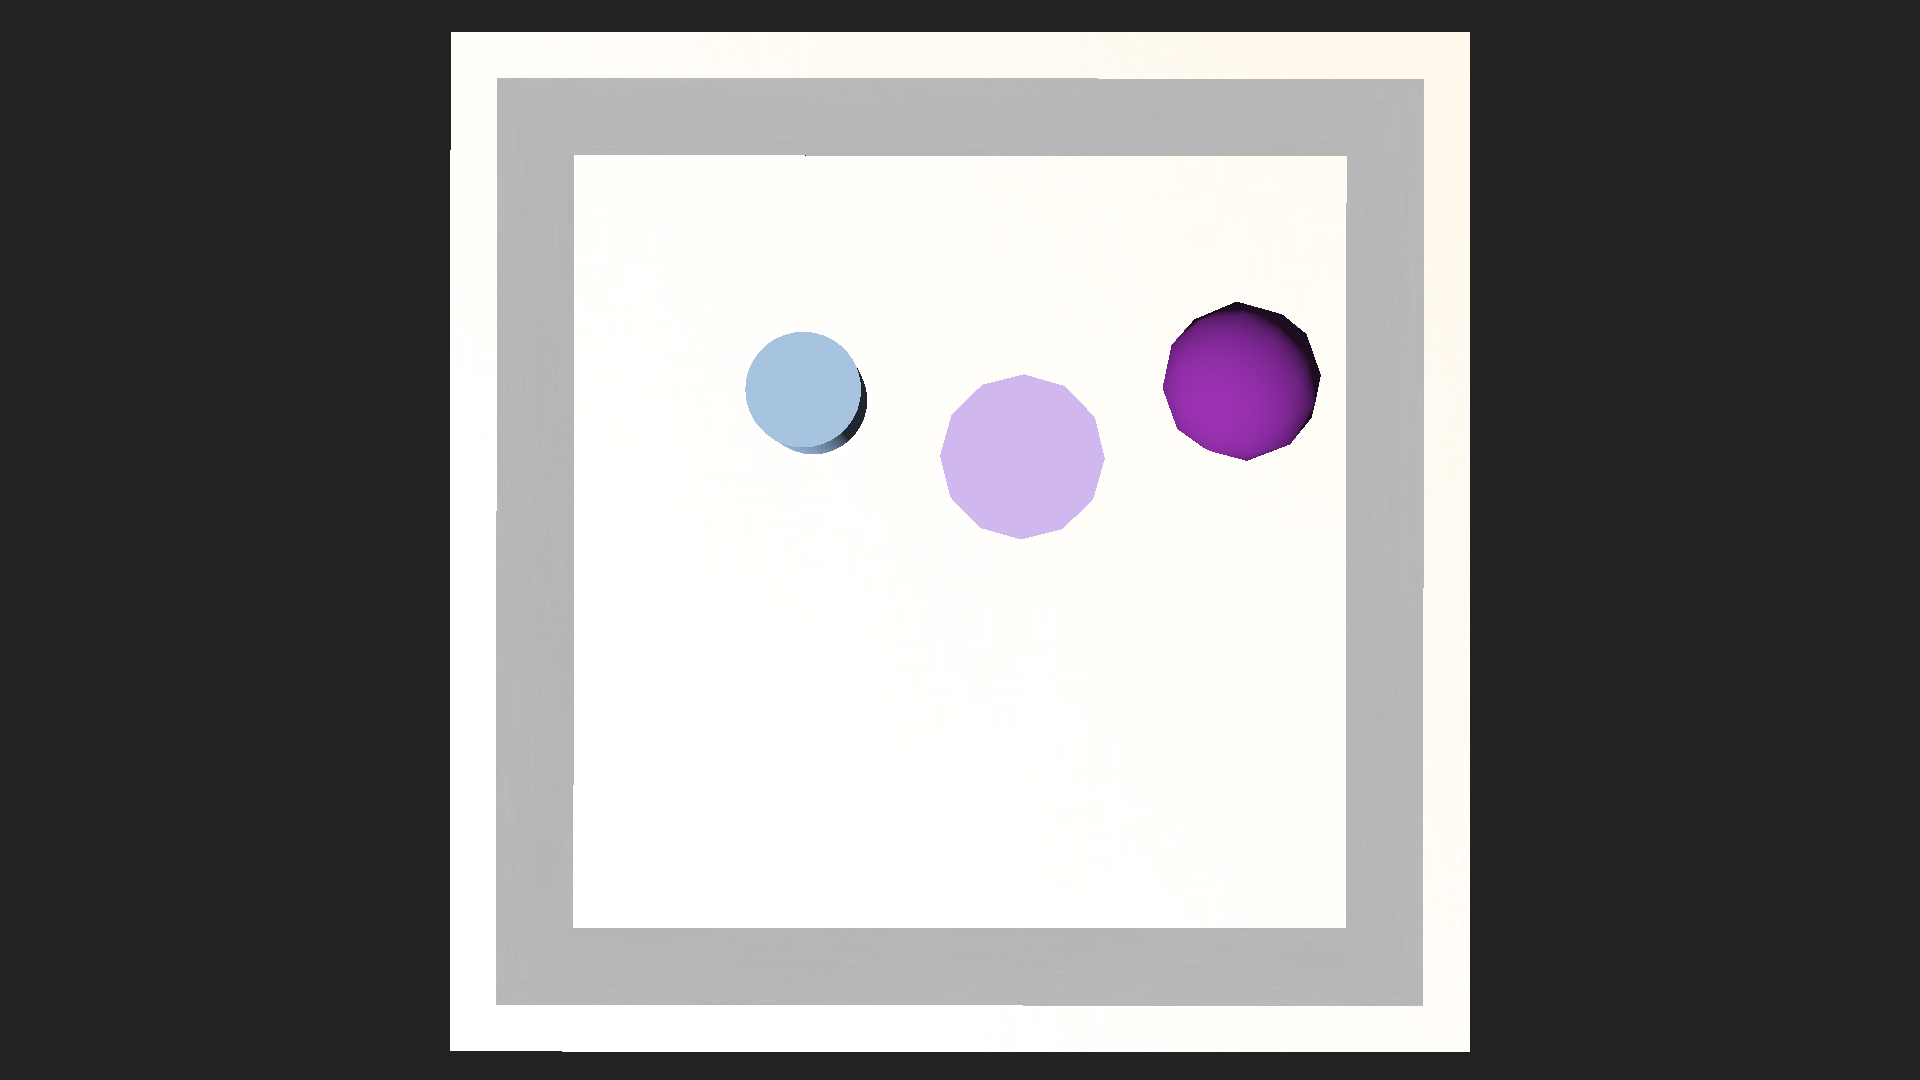cone: (745, 331, 868, 455)
cylinder: (943, 373, 1097, 533)
sphere: (1162, 301, 1320, 462)
